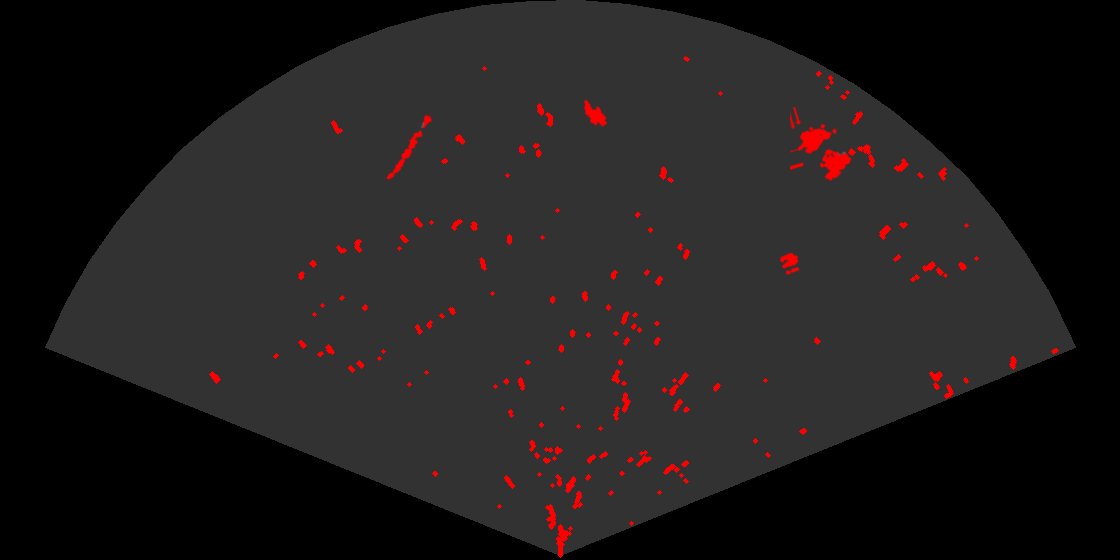AUV: (582, 98, 609, 128)
ball: (778, 251, 801, 277)
cage: (790, 107, 853, 183)
chain: (385, 110, 436, 182)
